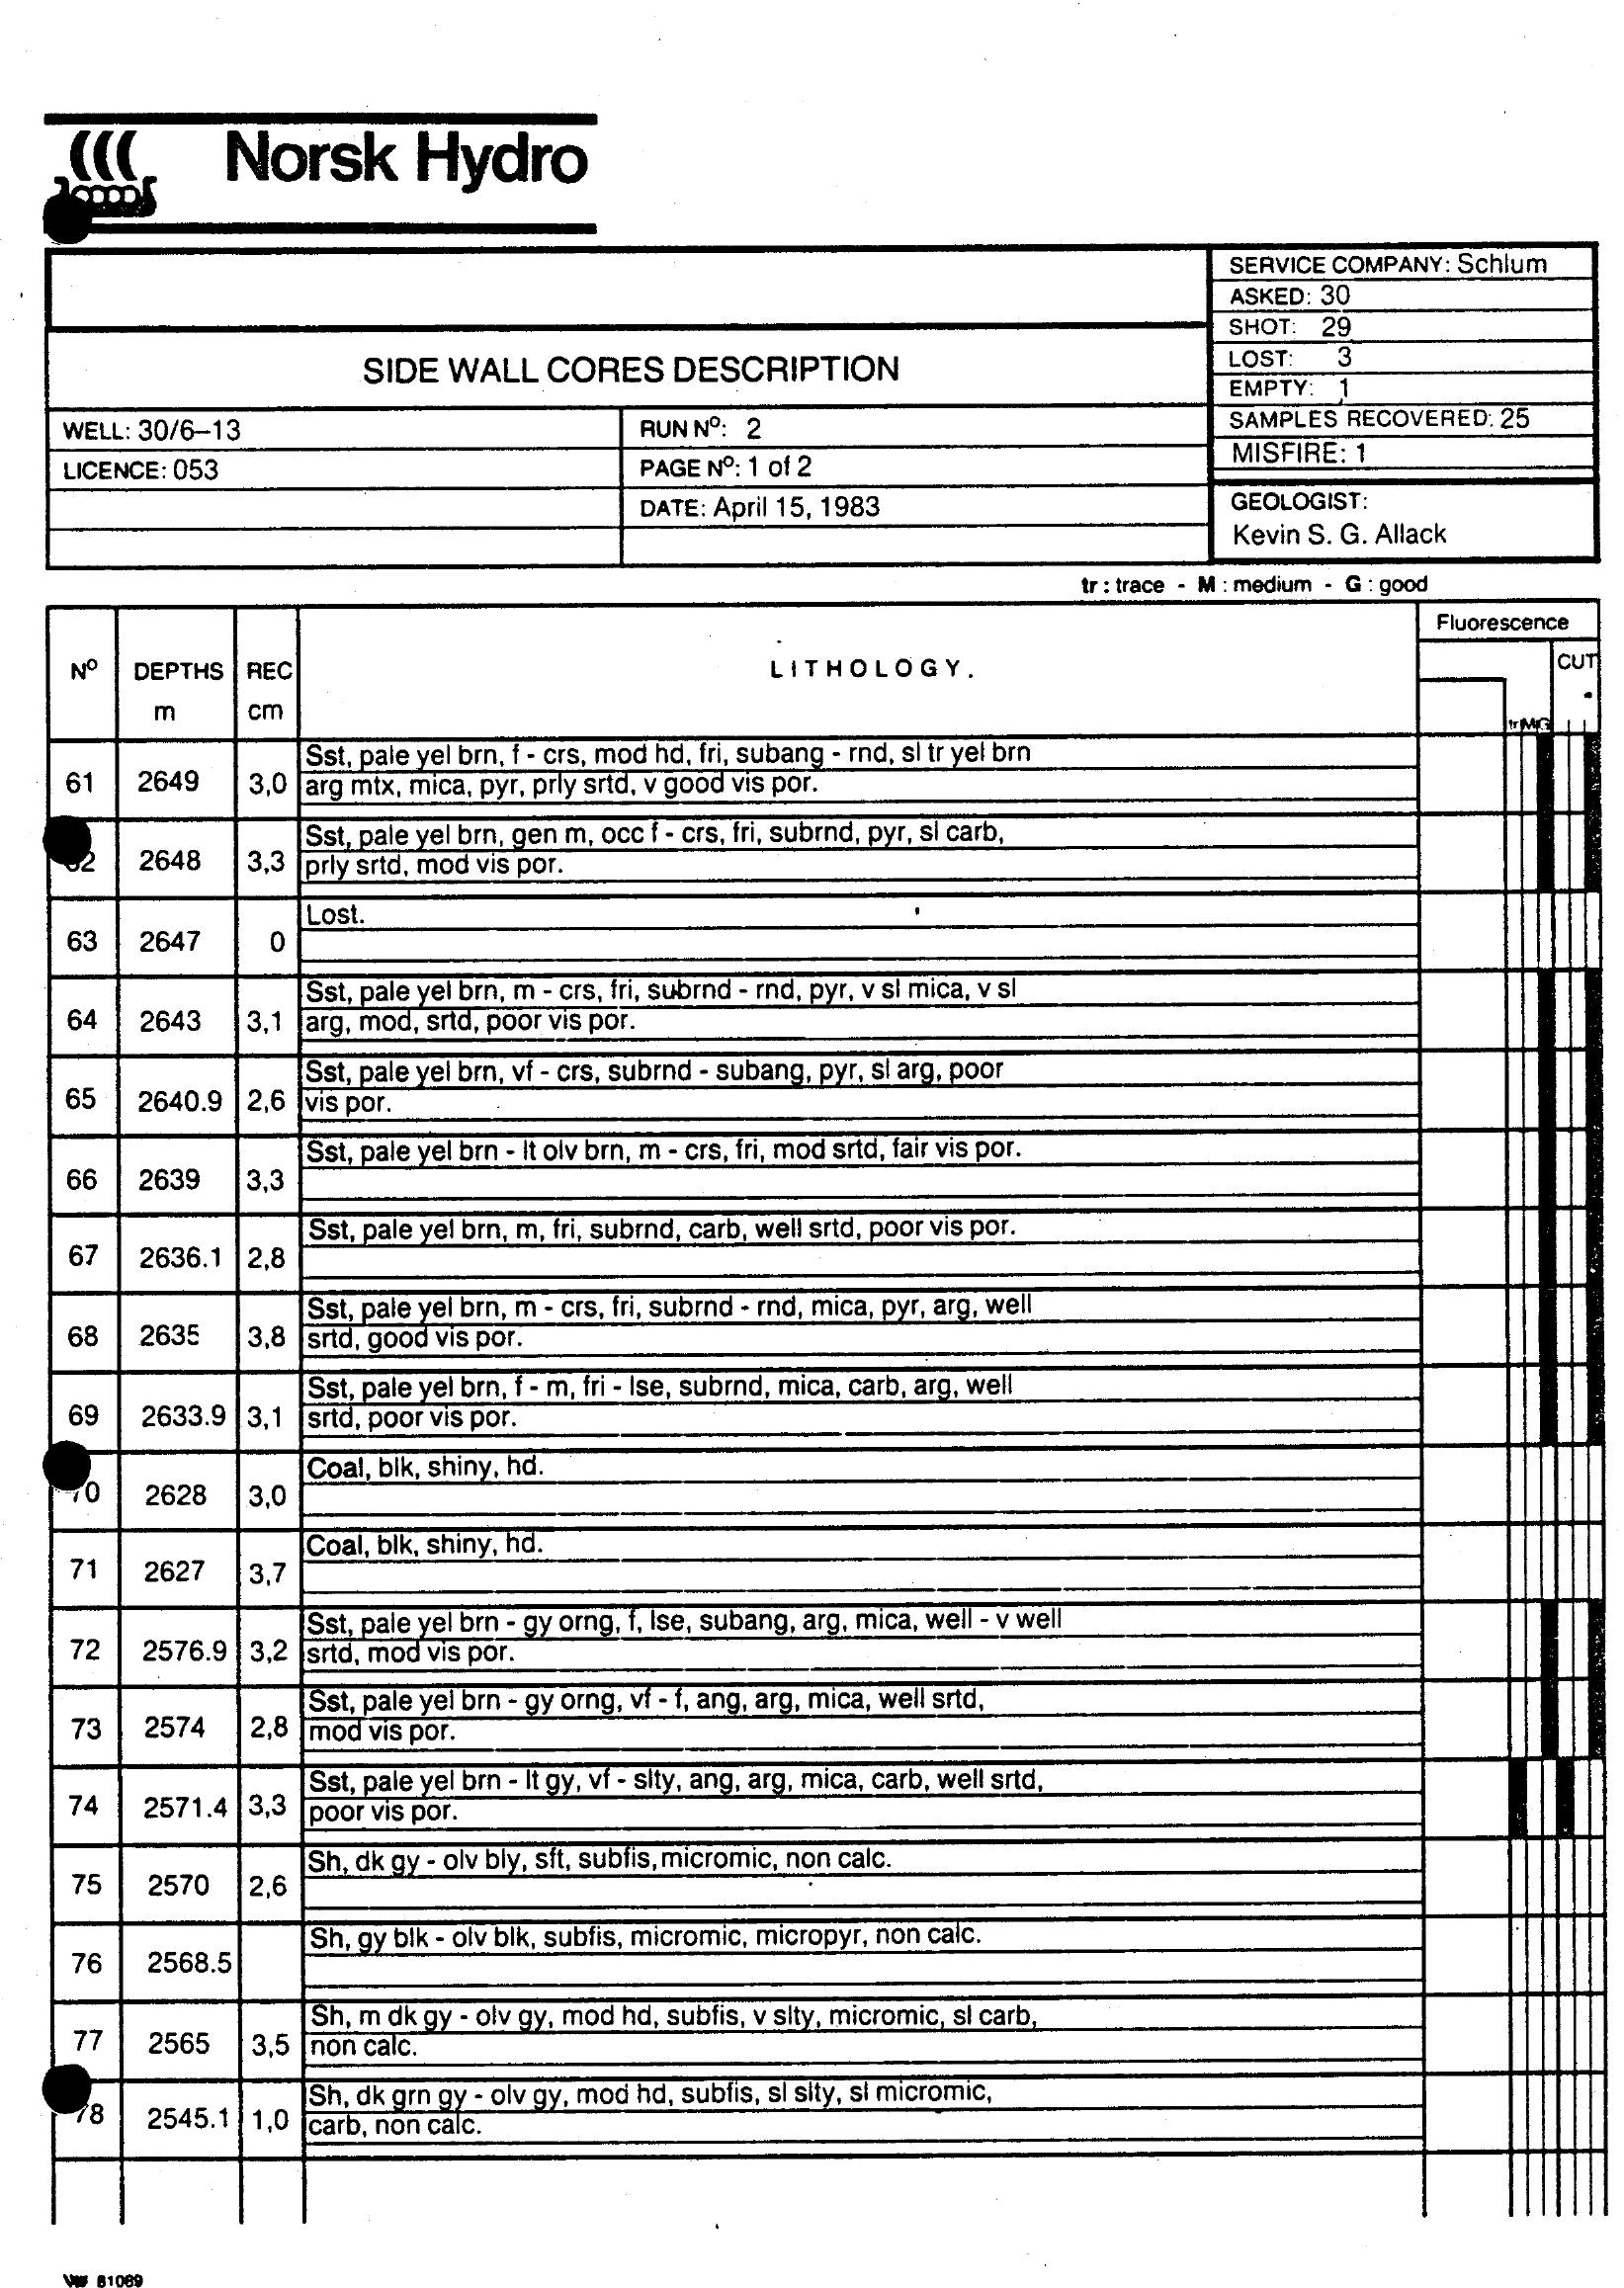table: (35, 592, 1624, 2172)
undefined: (35, 97, 619, 239)
